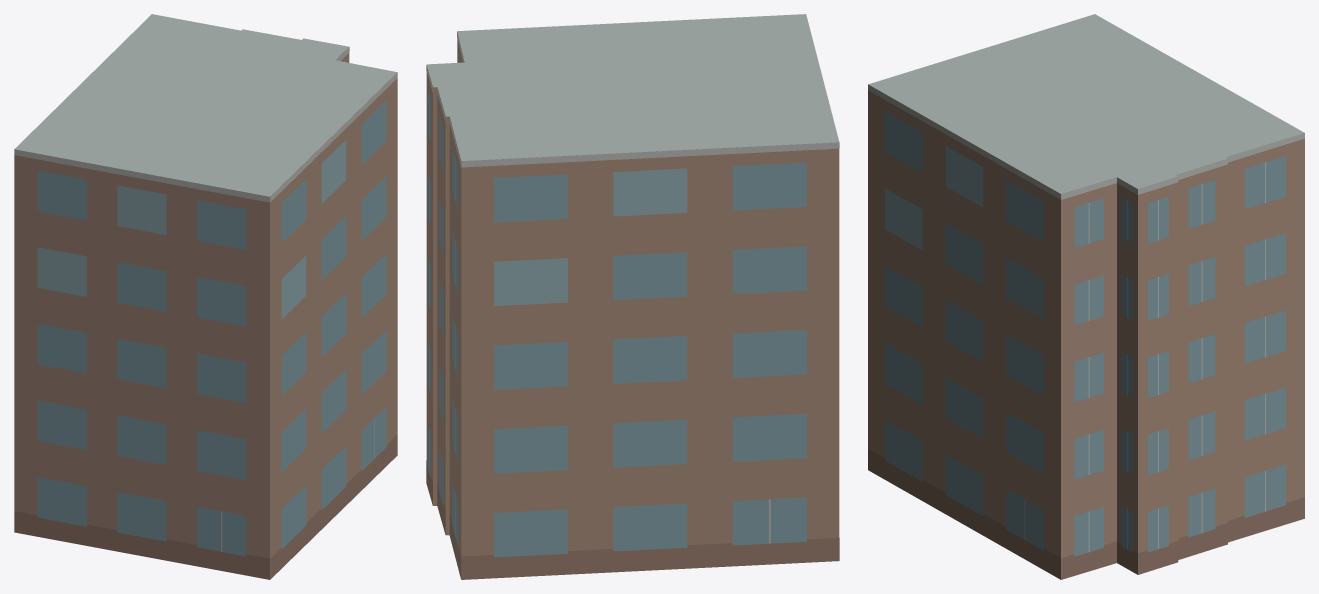
File: survey-upis-32685992.glb
3 renders of one model, left to right at view 1: azimuth 30°, elevation 25°; view 2: azimuth 150°, elevation 25°; view 3: azimuth 270°, elevation 25°, orthographic. The views are drawn at different scales.
Parts seen in each view (by area): view 1: survey-upis-32685992.tmp; view 2: survey-upis-32685992.tmp; view 3: survey-upis-32685992.tmp.
Part boxes in pixels (x1=…): survey-upis-32685992.tmp: x1=14, y1=14, x2=397, y2=579; survey-upis-32685992.tmp: x1=426, y1=14, x2=839, y2=579; survey-upis-32685992.tmp: x1=868, y1=14, x2=1304, y2=579.
Bounding box in the file's own units: 16.13 × 16.1 × 16.53.
